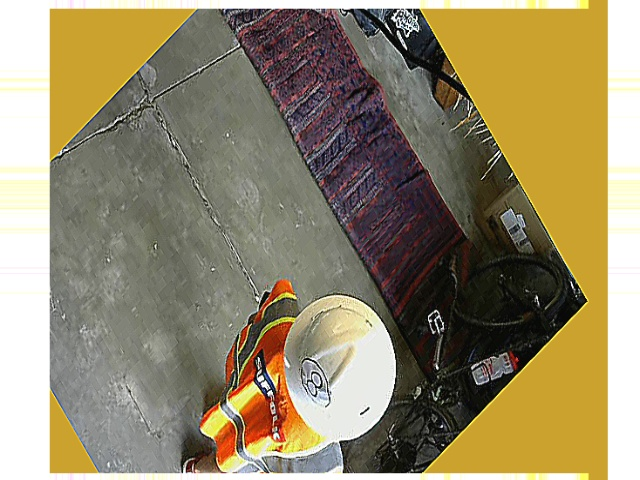eight: (293, 350, 338, 416)
